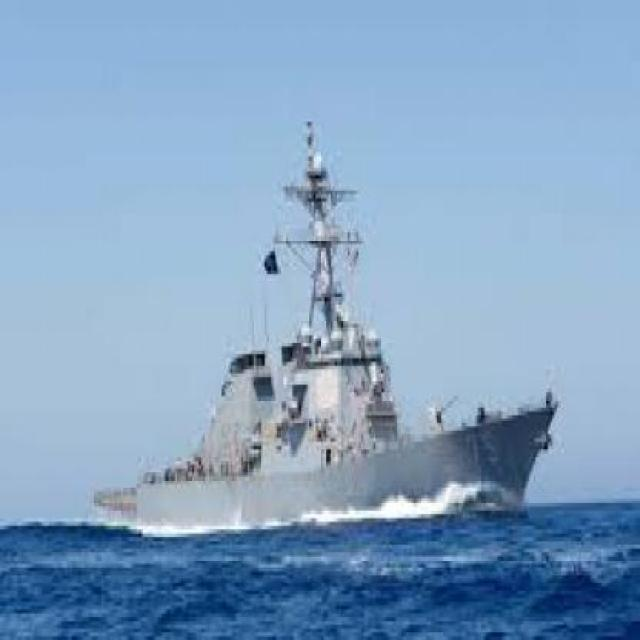warship2: (76, 85, 581, 542)
